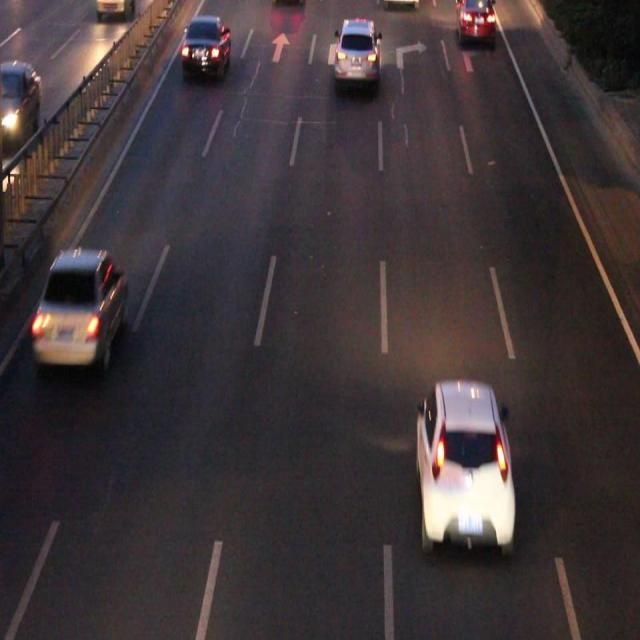car: (418, 382, 511, 541), (36, 249, 124, 363), (335, 19, 379, 81), (183, 18, 229, 72), (456, 1, 491, 38)
